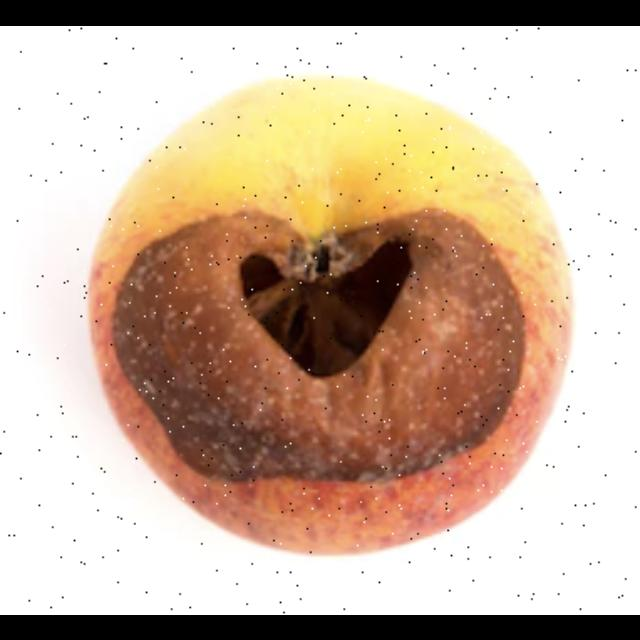Apel Tidak Segar: (90, 74, 582, 553)
